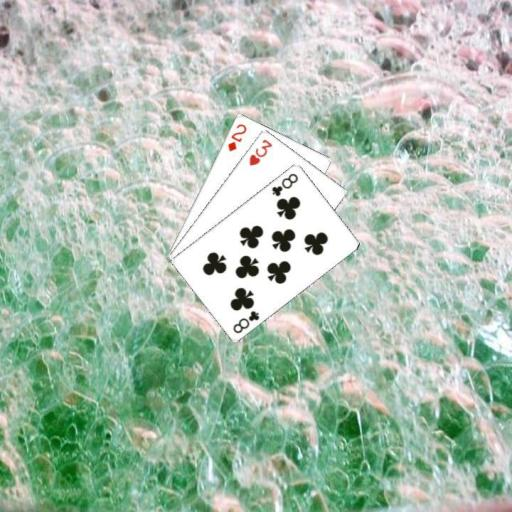2D: (225, 120, 248, 153)
3H: (246, 136, 274, 167)
8C: (268, 170, 299, 198), (230, 307, 261, 334)
